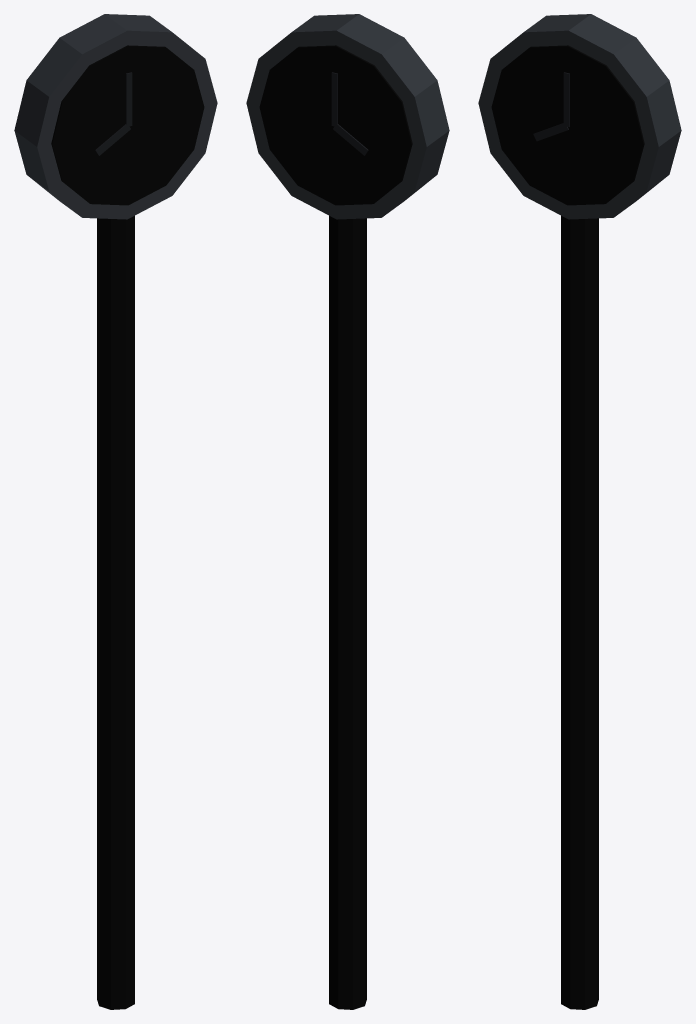
The model's file is ParkClock.fbx.
3 views of the same model, side by side, from view 1: azimuth 30°, elevation 25°; view 2: azimuth 150°, elevation 25°; view 3: azimuth 330°, elevation 25° (orthographic).
Parts seen in each view (by area): view 1: Pole.002, Face.002, Case, Hands; view 2: Pole.002, Face.002, Case, Hands; view 3: Pole.002, Face.002, Case, Hands.
Boxes of the visible parts, <box> form: Pole.002: <box>97,215,134,1009</box>; Face.002: <box>51,45,204,205</box>; Case: <box>14,14,217,219</box>; Hands: <box>95,72,132,155</box>; Pole.002: <box>329,215,366,1009</box>; Face.002: <box>259,45,412,205</box>; Case: <box>246,14,449,219</box>; Hands: <box>331,72,368,155</box>; Pole.002: <box>561,215,598,1009</box>; Face.002: <box>491,45,644,205</box>; Case: <box>478,14,681,219</box>; Hands: <box>533,72,569,141</box>.
Bounding box in the file's own units: 0.64 × 3.32 × 0.164.
